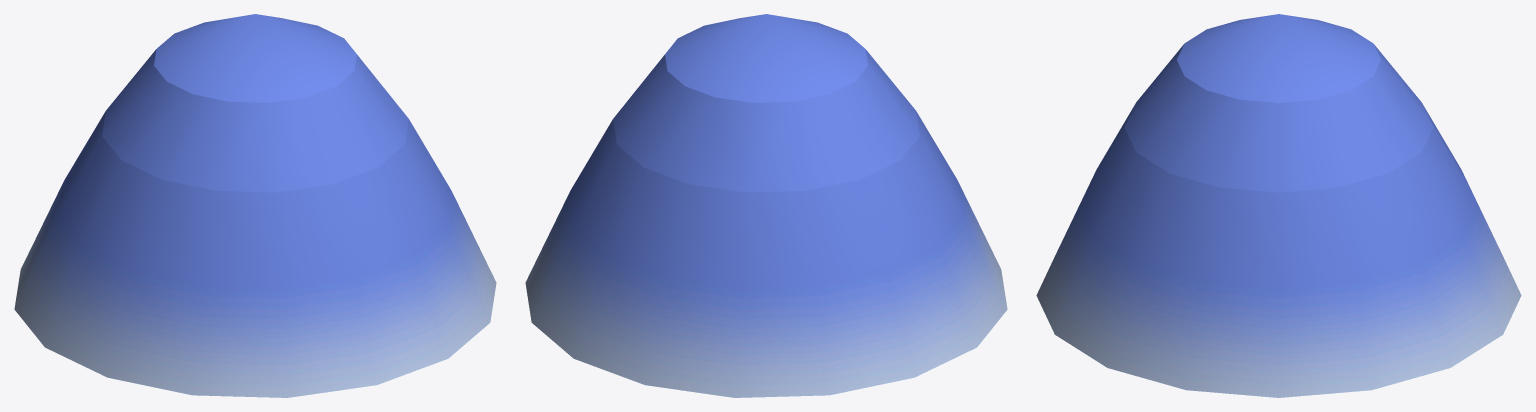
3 renders of one model, left to right at view 1: azimuth 30°, elevation 25°; view 2: azimuth 150°, elevation 25°; view 3: azimuth 270°, elevation 25°, orthographic.
Visible parts, largest first — view 1: polygon3; view 2: polygon3; view 3: polygon3.
Boxes of the visible parts, x1,y1,x2,y2 form: polygon3: [14, 14, 496, 397]; polygon3: [525, 14, 1007, 397]; polygon3: [1036, 14, 1521, 397].
Size of the model in its own units: 8178 by 5235 by 8178.
Materials: 30 (30 with a texture image).
